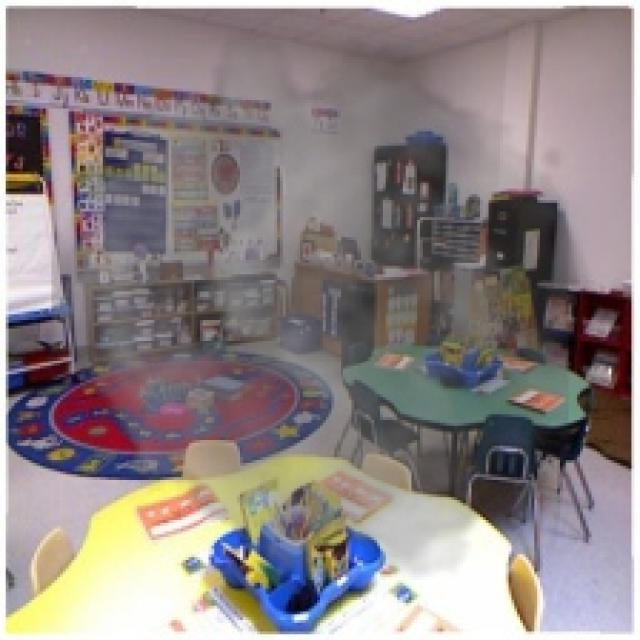smoke: (51, 29, 568, 597)
